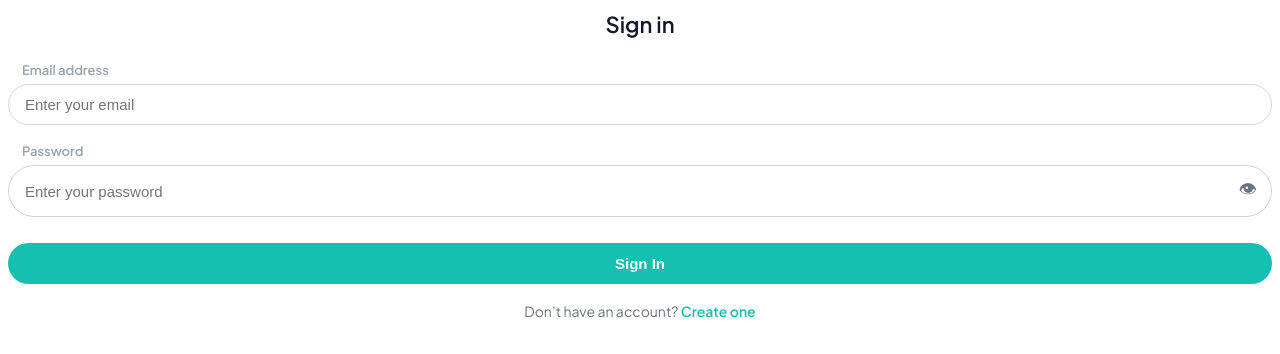
Test case: Login Component › shows error for invalid email
Type "invalid-email" into the field labelled "Email address".
click(640, 105); type("invalid-email")  # box [23,95,1257,114]
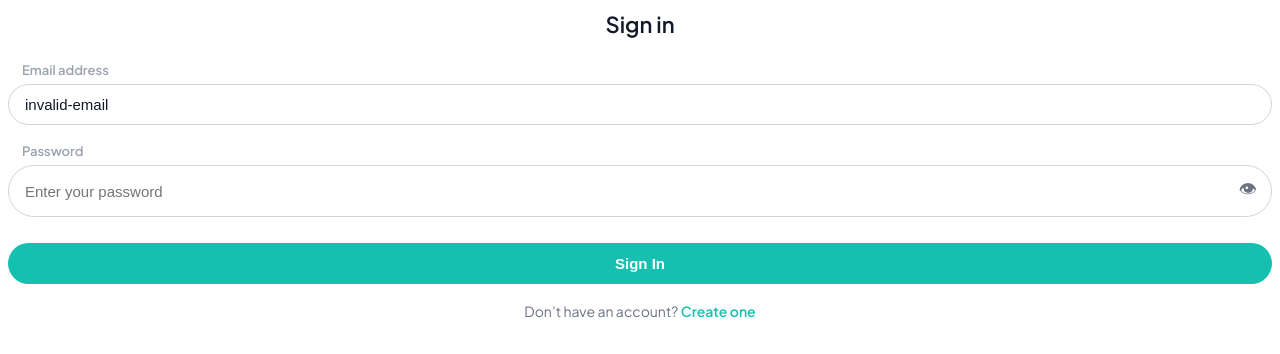
Type "password123" into the password field labelled "Password".
click(626, 191); type("password123")  # box [23,182,1229,201]
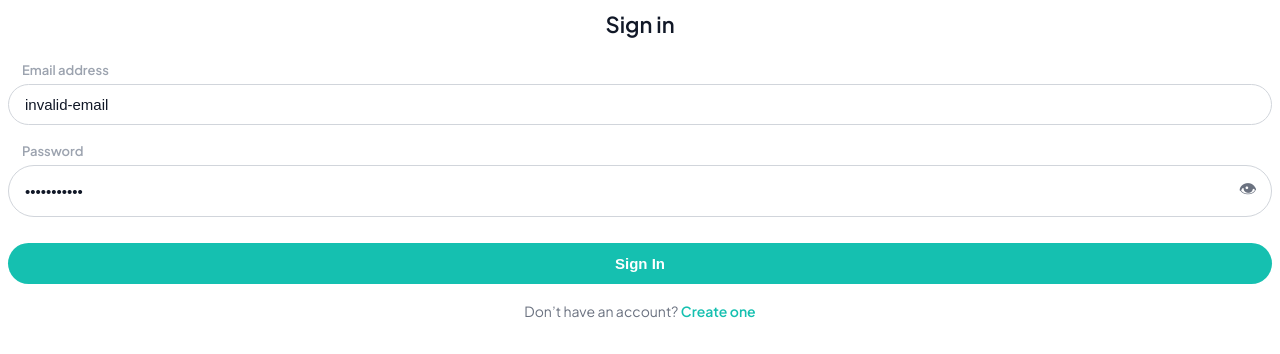
Click the button "Sign In".
click(640, 264)  # box [8,243,1272,284]
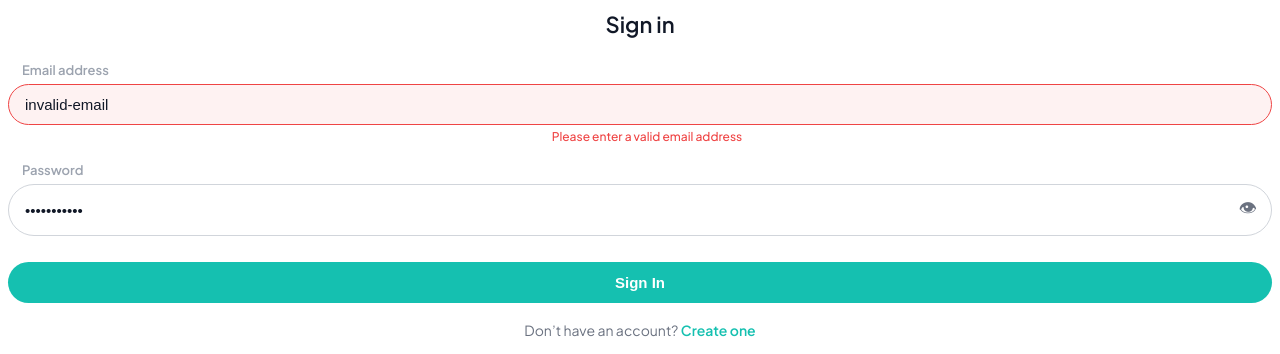
Expected: the text "Please enter a valid email address" is shown, [552,129,742,144]
